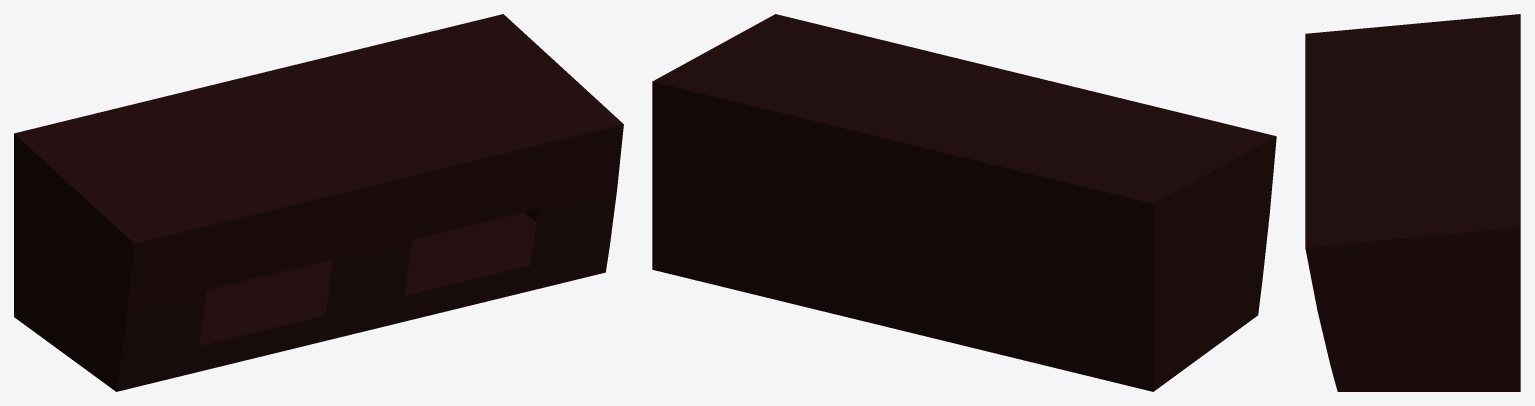
The model's file is MenuHallway 1.FBX.
3 renders of one model, left to right at view 1: azimuth 30°, elevation 25°; view 2: azimuth 150°, elevation 25°; view 3: azimuth 270°, elevation 25°, orthographic. The views are drawn at different scales.
Visible parts, largest first — view 1: Coverup, Hallway; view 2: Coverup; view 3: Coverup.
Part boxes in pixels (left/top/right/bottom): Coverup: left=14, top=14, right=623, bottom=391; Hallway: left=199, top=213, right=536, bottom=345; Coverup: left=652, top=14, right=1276, bottom=391; Coverup: left=1305, top=14, right=1520, bottom=391.
Size of the model in its own units: 118 by 42.33 by 50.33.
